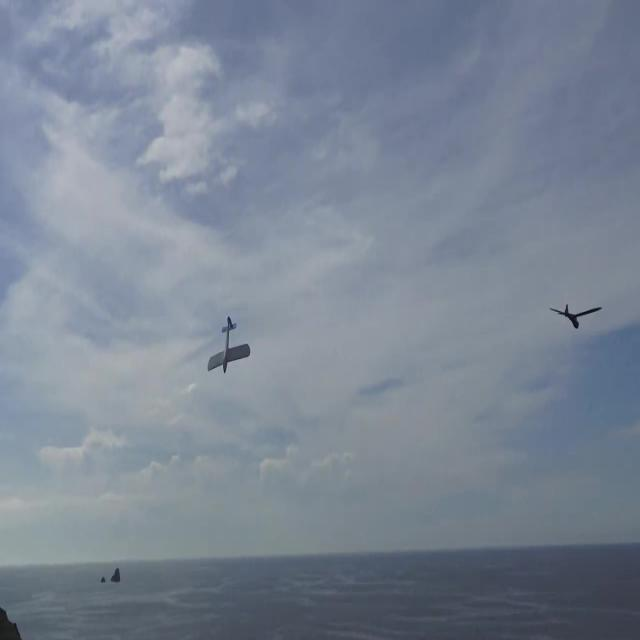iha: (208, 315, 251, 376), (546, 300, 604, 331)
